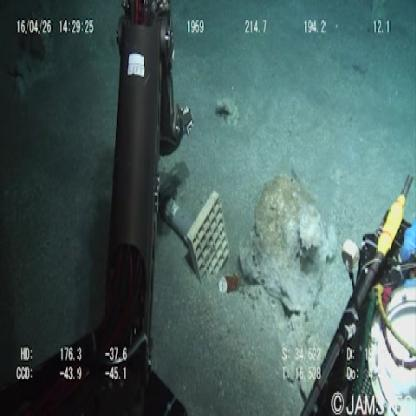Rov: (89, 2, 196, 388), (297, 168, 416, 413), (154, 190, 232, 291)
